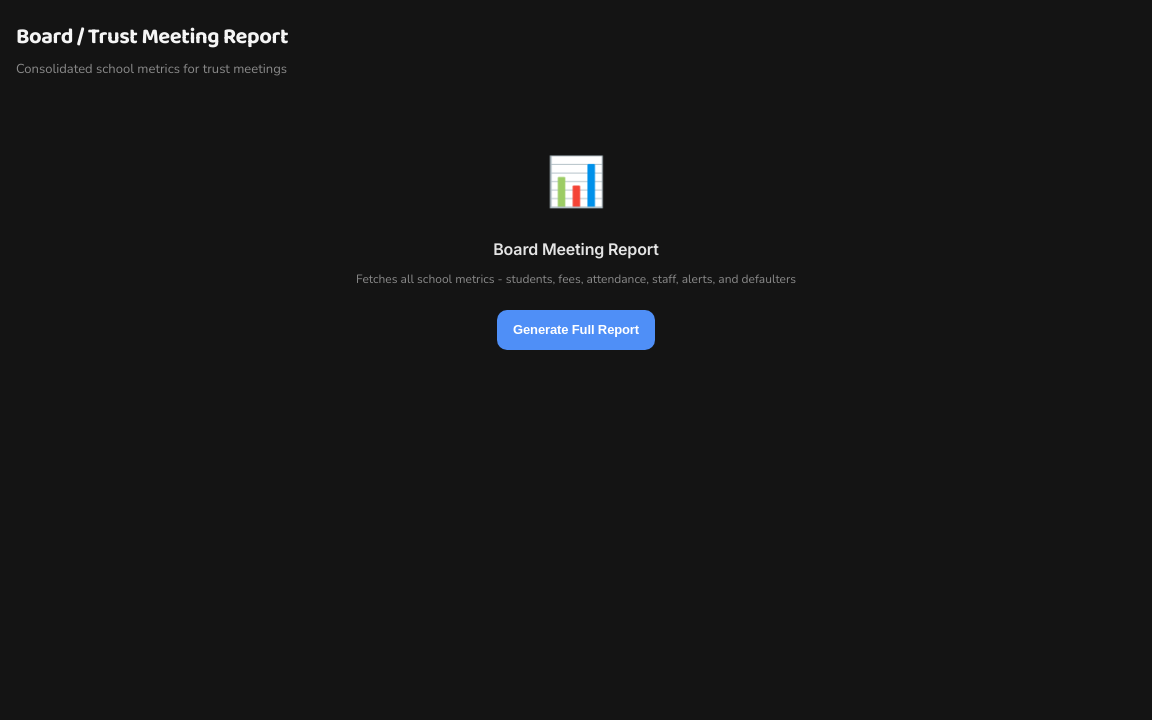
Test: reads the real figure out of the single envelope
What coordinates should you click on to do the following:
click the button with test id "board-generate"
I would click on:
 (576, 330)
Its box is [497, 310, 655, 350].
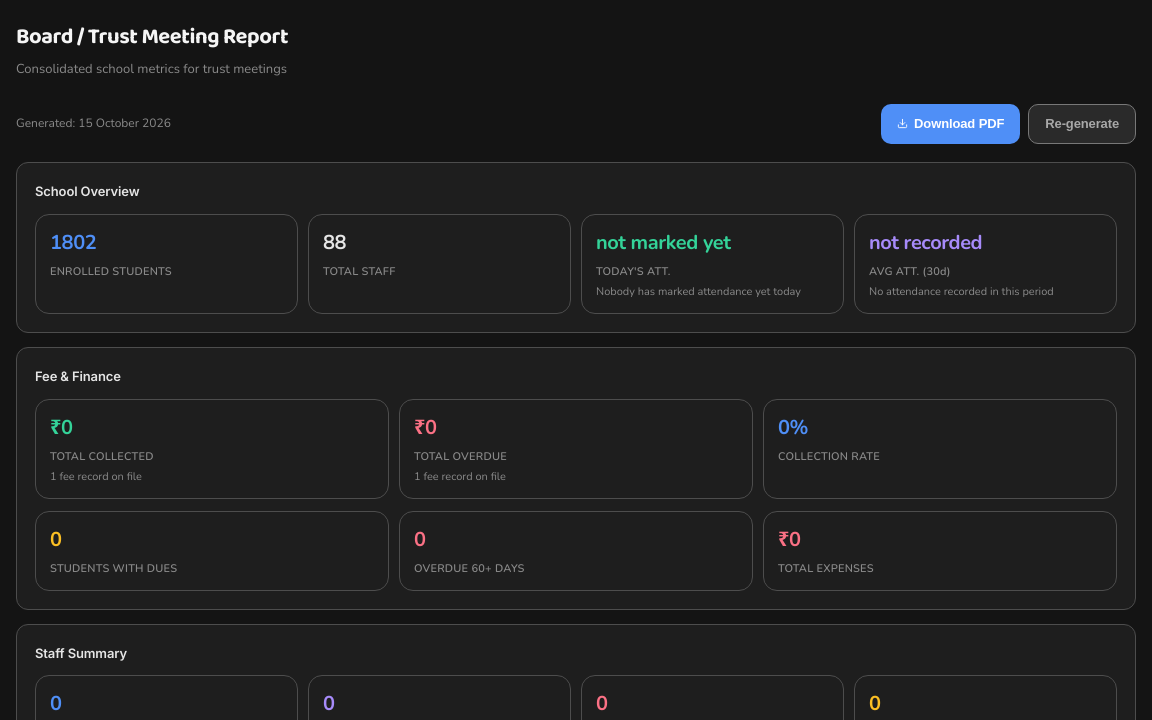
Result: the element with test id "board-total-students" shows "1802" at [50, 229, 96, 256]
